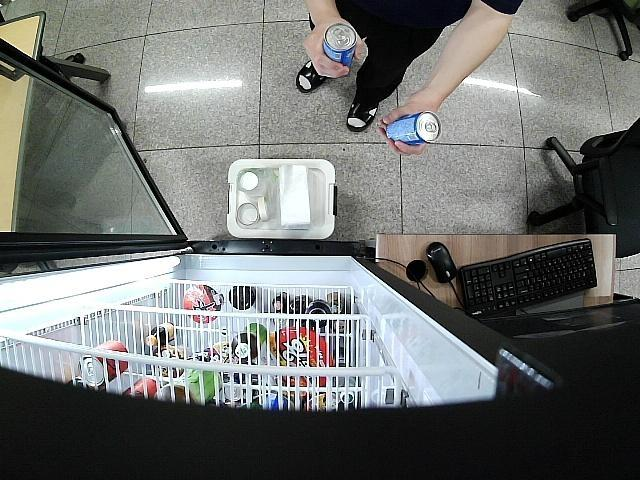15_letsbe: (386, 110, 441, 146), (324, 24, 357, 71)
